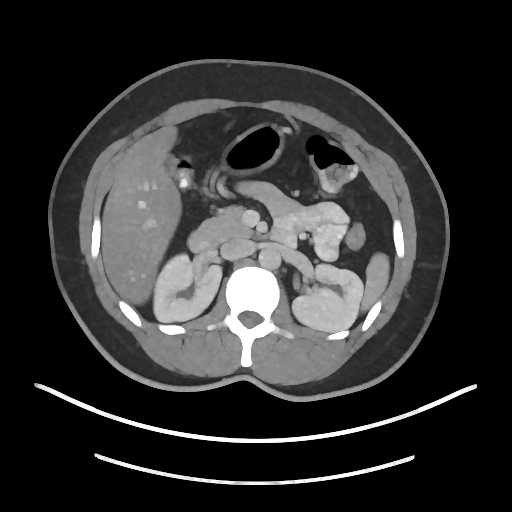Lesion: (335, 270, 353, 286)
